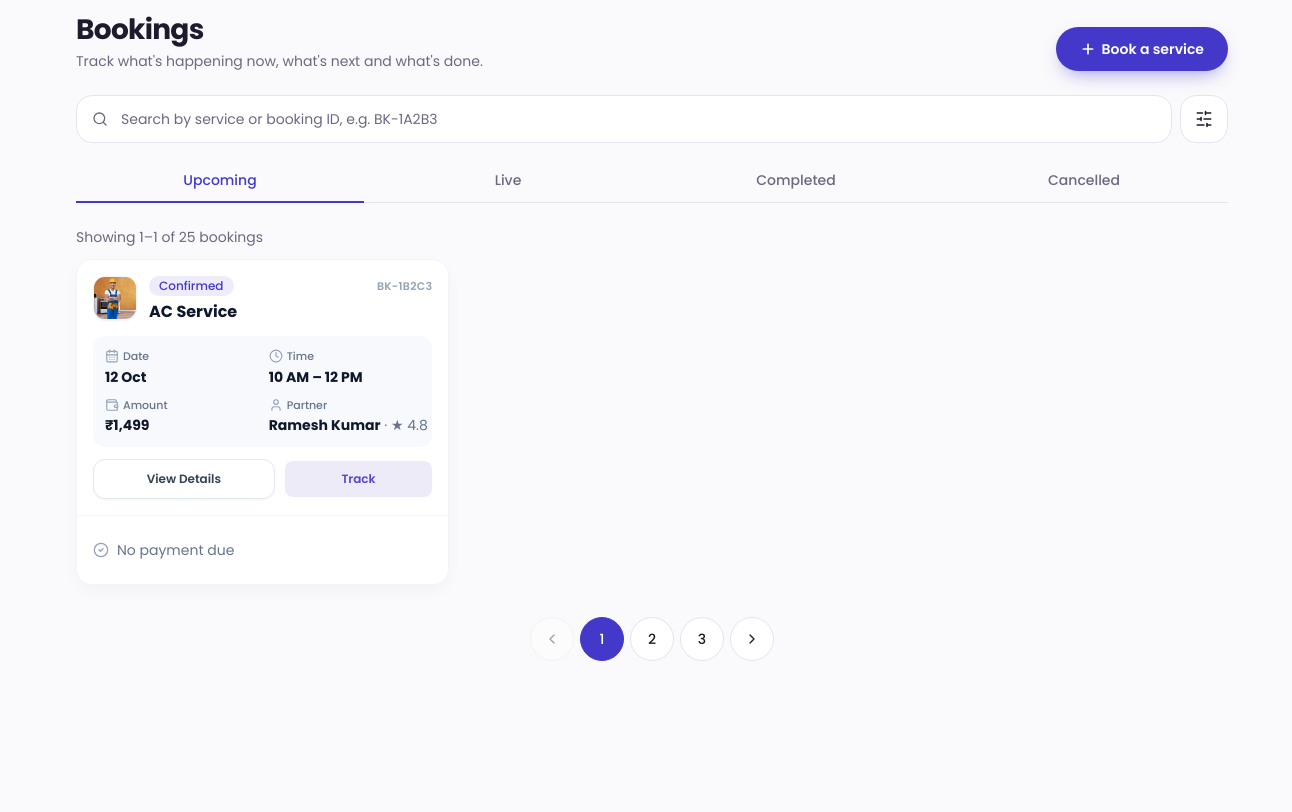
Test: My Bookings page › paginates: Next asks the server for page 2
Check: the element that starts with "Confirmed" is shown, box [76,259,449,585]
Check: the text "Showing 1–1 of 25 bookings" is shown, box [76,227,263,247]
Click the button named "Next page" at x=752, y=639, box [730,617,774,661]
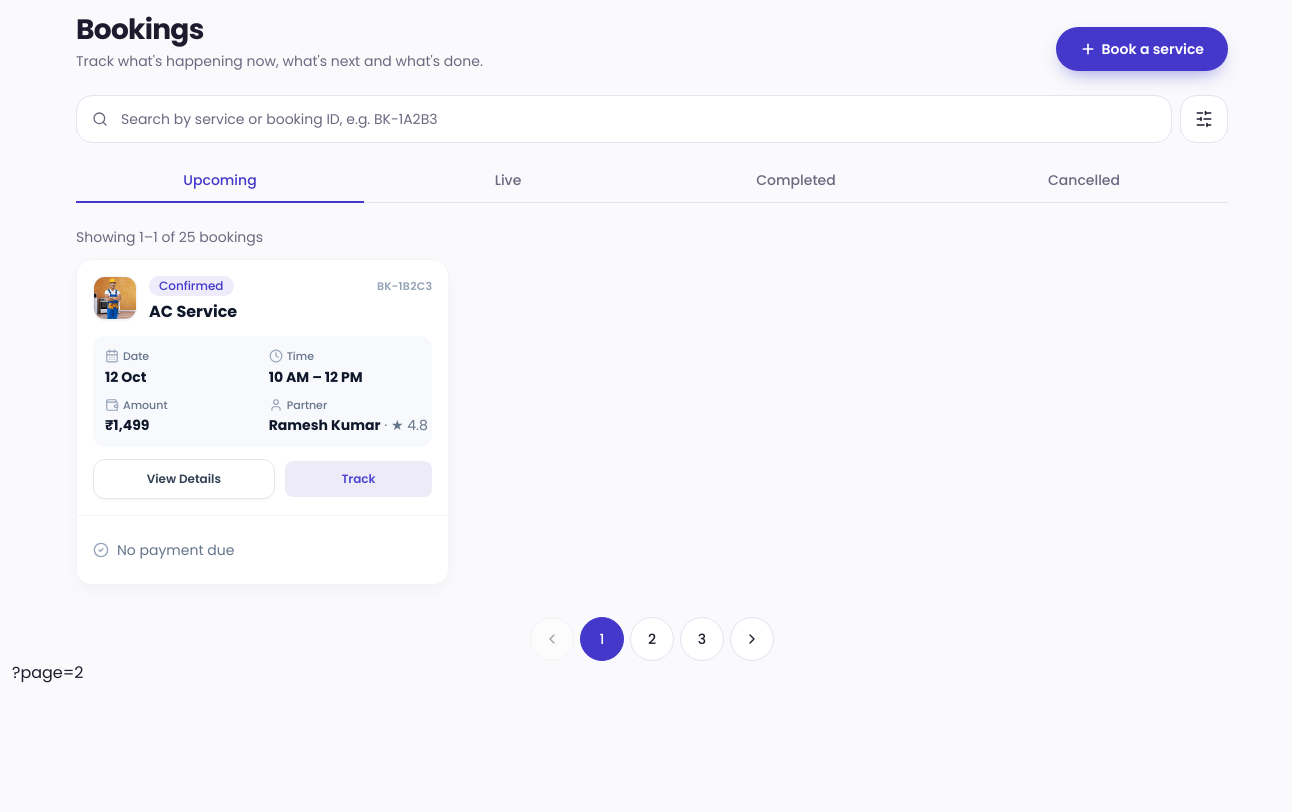
Check: the text with test id "search" shows "page=2", box [12,661,84,684]
